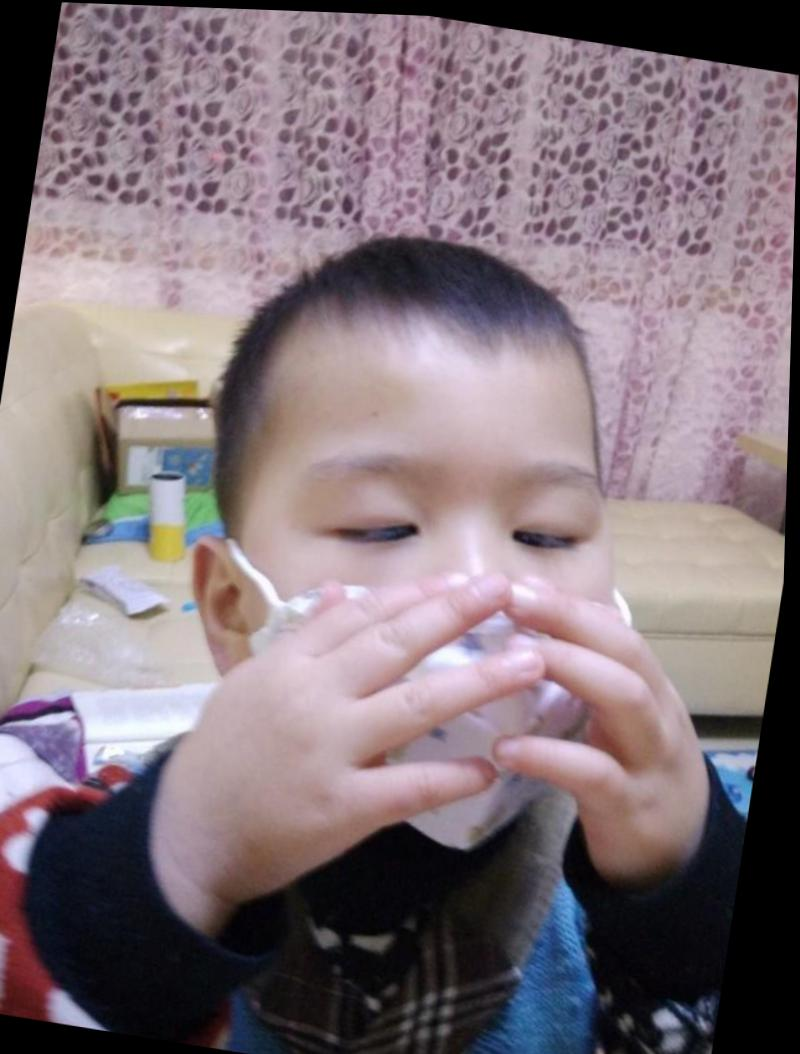WRONG: (205, 388, 644, 830)
